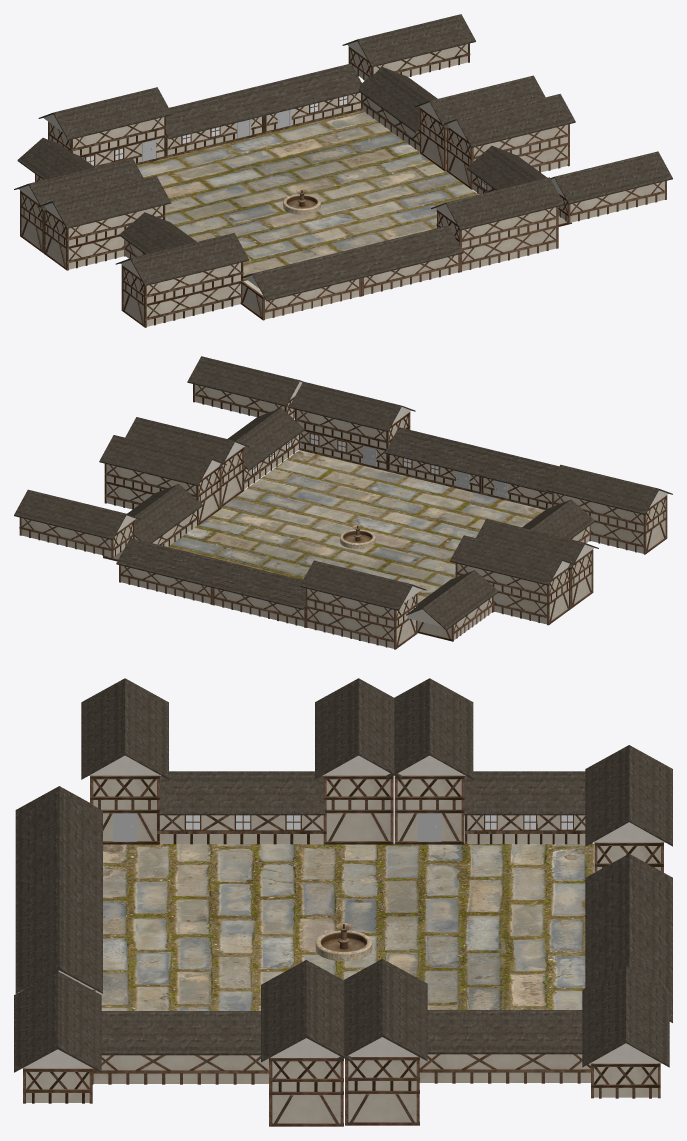
File: Map.fbx
The picture shows the model from 3 angles, top to bottom: view 1: azimuth 30°, elevation 25°; view 2: azimuth 150°, elevation 25°; view 3: azimuth 270°, elevation 25°; orthographic projection. The views are drawn at different scales.
Parts seen in each view (by area): view 1: Plane.001, Cube.029, Cube.014, Cube.024, Cube.011, Cube.026, Cube.037, Cube.004, Cube.034, Cube.021, Bot.020, Cube.003 (+26 smaller); view 2: Plane.001, Cube.014, Cube.029, Cube.003, Cube.011, Cube.037, Cube.004, Cube.026, Cube.009, Cube.021, Cube.008, Cube.024 (+28 smaller); view 3: Plane.001, Cube.014, Cube.029, Cube.011, Cube.004, Cube.021, Cube.037, Cube.024, Cube.003, Cube.036, Cube.023, Cube.001 (+26 smaller).
Boxes of the visible parts, <box> form: Plane.001: <box>137,110,477,279</box>; Cube.029: <box>241,225,463,301</box>; Cube.014: <box>165,63,361,139</box>; Cube.024: <box>441,94,575,147</box>; Cube.011: <box>38,87,171,140</box>; Cube.026: <box>431,177,564,230</box>; Cube.037: <box>115,233,249,285</box>; Cube.004: <box>342,14,475,67</box>; Cube.034: <box>37,175,171,228</box>; Cube.021: <box>550,151,672,204</box>; Bot.020: <box>121,280,243,327</box>; Cube.003: <box>414,75,545,129</box>; Plane.001: <box>168,450,544,603</box>; Cube.014: <box>116,538,305,609</box>; Cube.029: <box>384,427,558,494</box>; Cube.003: <box>99,435,226,486</box>; Cube.011: <box>300,560,426,610</box>; Cube.037: <box>546,464,672,514</box>; Cube.004: <box>14,489,140,539</box>; Cube.026: <box>289,381,415,431</box>; Cube.009: <box>450,535,576,585</box>; Cube.021: <box>187,356,302,406</box>; Cube.008: <box>406,570,498,630</box>; Cube.024: <box>125,417,249,468</box>; Plane.001: <box>95,843,593,1010</box>; Cube.014: <box>585,854,672,1022</box>; Cube.029: <box>15,786,102,915</box>; Cube.011: <box>585,745,672,846</box>; Cube.004: <box>582,966,669,1067</box>; Cube.021: <box>14,971,101,1072</box>; Cube.037: <box>81,678,168,779</box>; Cube.024: <box>261,960,351,1062</box>; Cube.003: <box>337,959,427,1061</box>; Cube.036: <box>159,771,324,815</box>; Cube.023: <box>101,1011,260,1055</box>; Cube.001: <box>427,1010,582,1054</box>.
Size of the model in its own units: 5232 by 618 by 3950.
